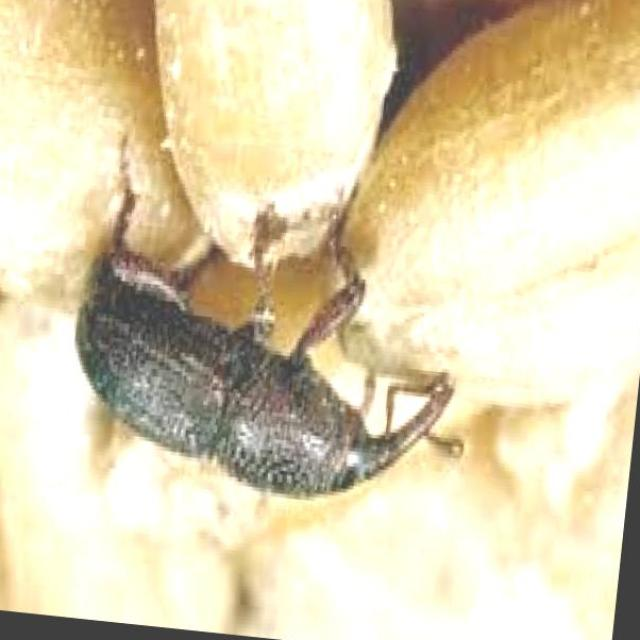ricebug: (75, 191, 462, 499)
